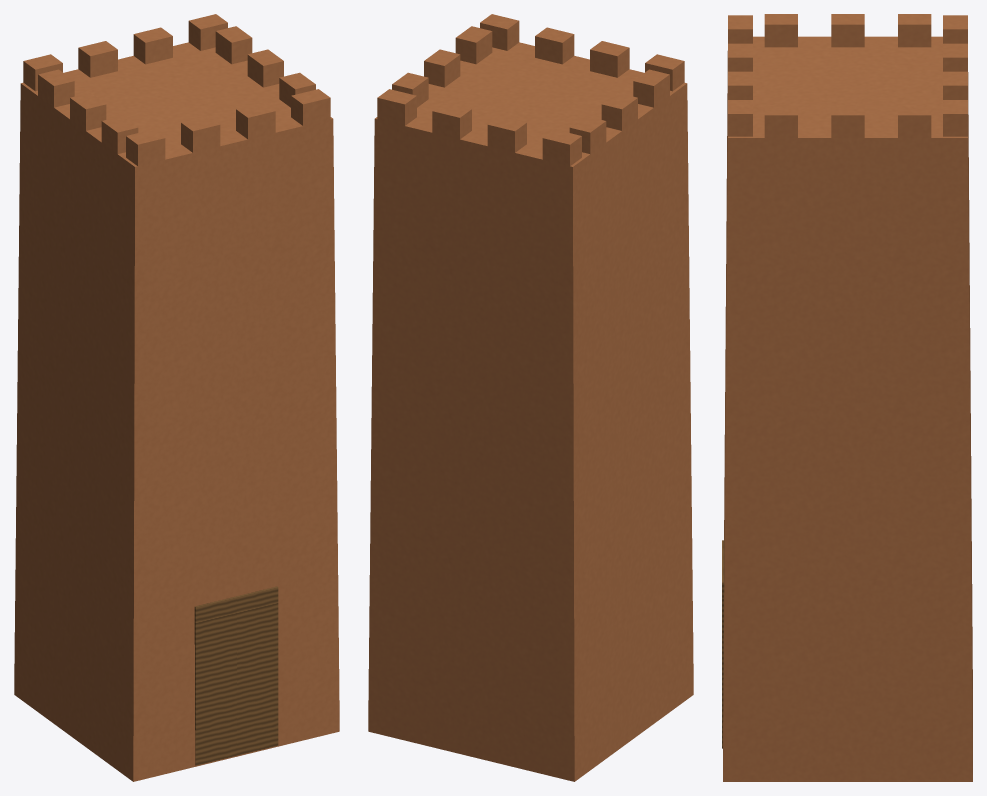
File: SM_Souq_Warehouse_W3D30_Crenel.fbx
3 renders of one model, left to right at view 1: azimuth 30°, elevation 25°; view 2: azimuth 150°, elevation 25°; view 3: azimuth 270°, elevation 25°, orthographic. The views are drawn at different scales.
Parts seen in each view (by area): view 1: SM_Souq_Warehouse_W3D30_Crenel; view 2: SM_Souq_Warehouse_W3D30_Crenel; view 3: SM_Souq_Warehouse_W3D30_Crenel.
Part boxes in pixels (x1,y1,x2,y2): SM_Souq_Warehouse_W3D30_Crenel: (14,14,339,781); SM_Souq_Warehouse_W3D30_Crenel: (368,14,693,781); SM_Souq_Warehouse_W3D30_Crenel: (722,14,972,781).
Bounding box in the file's own units: 3 × 8.8 × 3.01.
2 materials, 2 textured.
